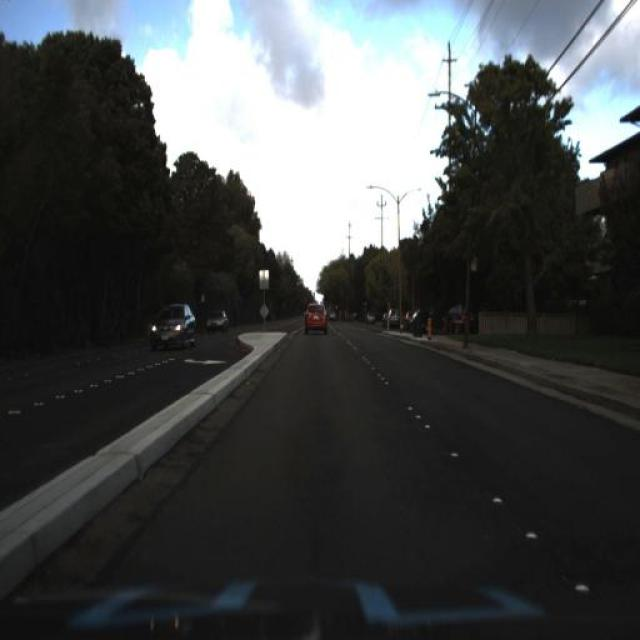car: (142, 299, 197, 350), (144, 298, 194, 352), (302, 298, 327, 338), (204, 309, 230, 336), (204, 307, 228, 335)
